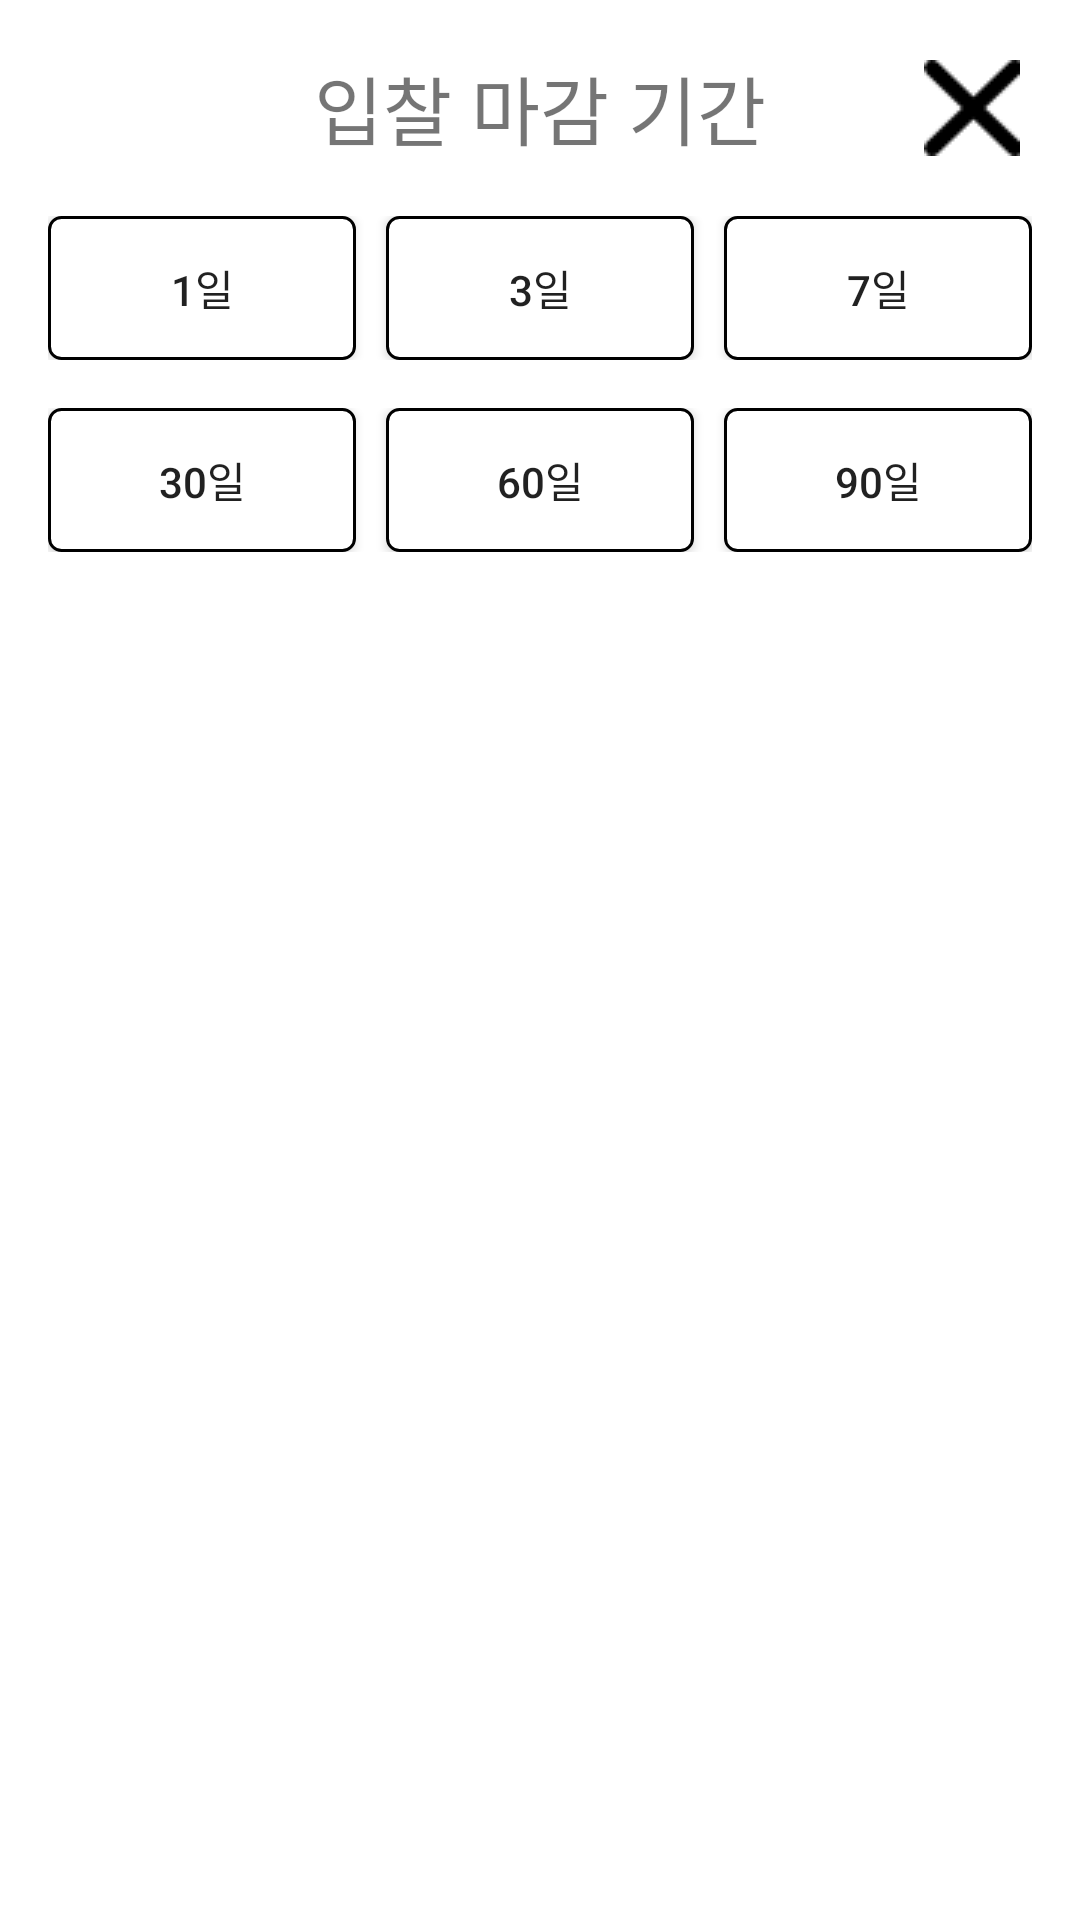

Point at icon controls on the screen. Image size 1080*1920, points as (x=x, y=y).
닫는버튼: (x=972, y=108)
